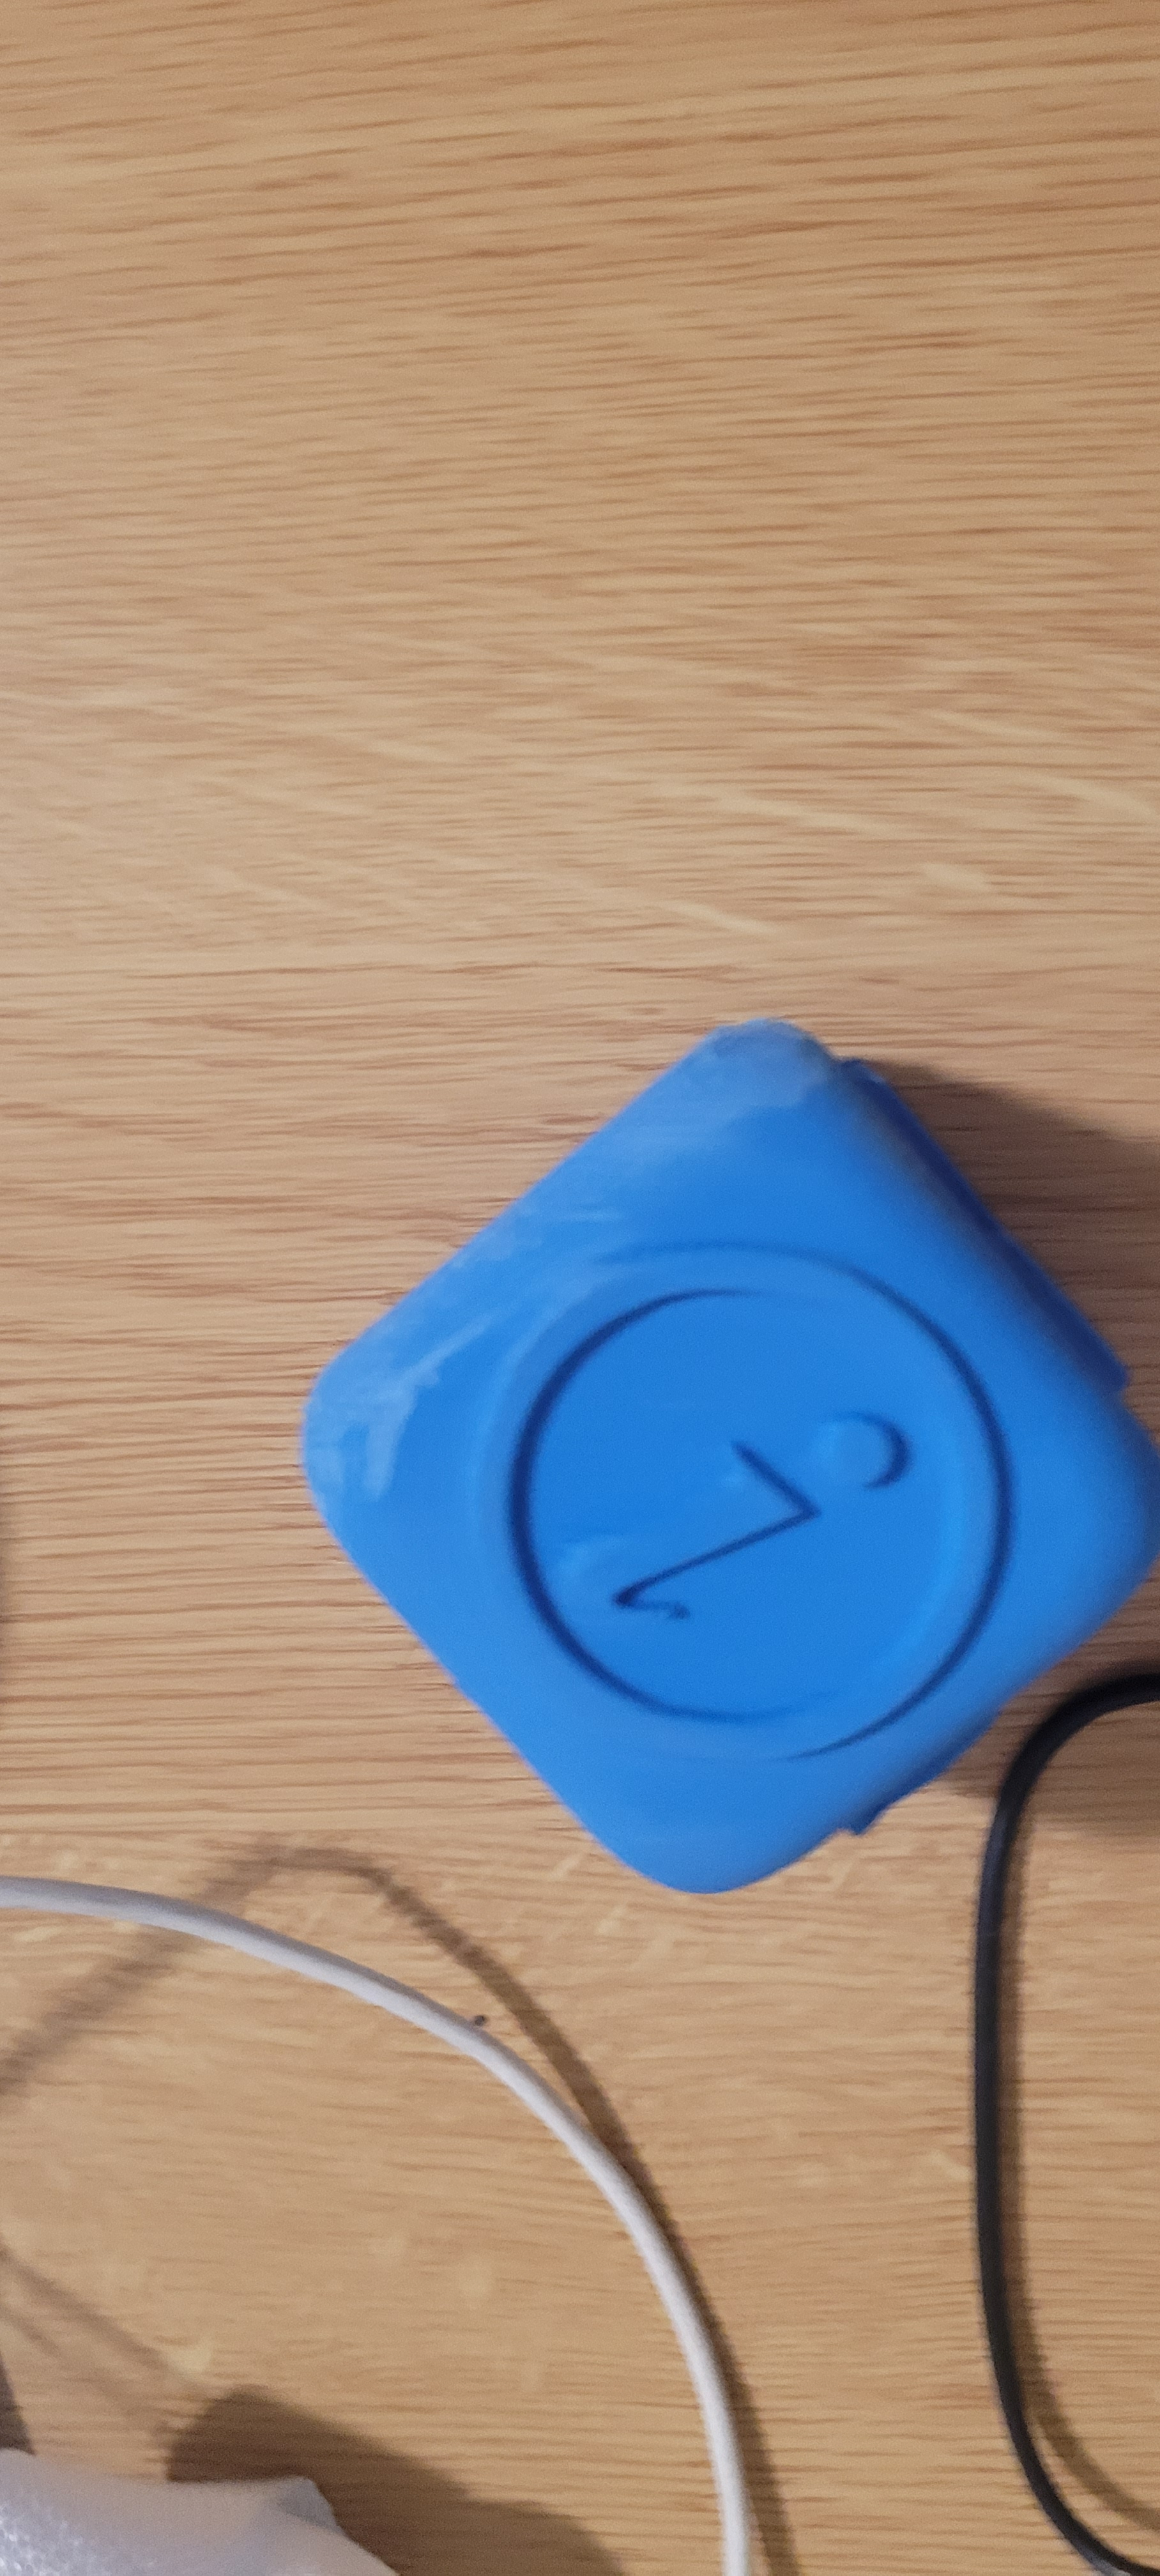Info: (327, 1199, 1132, 1835)
